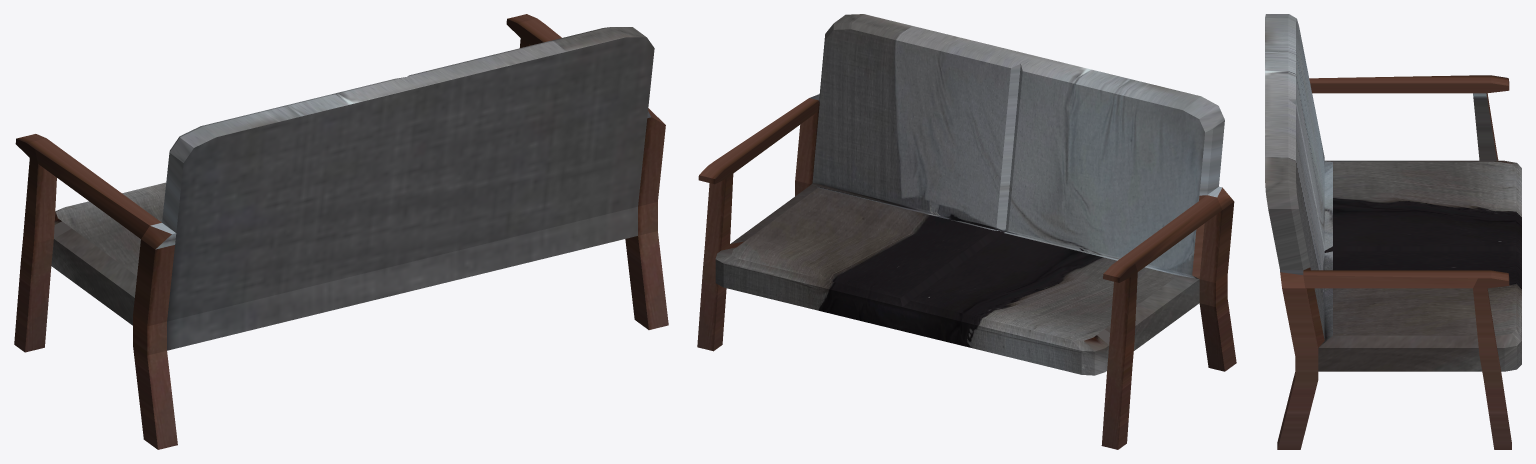
The model's file is Canap.fbx.
3 views of the same model, side by side, from view 1: azimuth 30°, elevation 25°; view 2: azimuth 150°, elevation 25°; view 3: azimuth 270°, elevation 25° (orthographic). The views are drawn at different scales.
Parts seen in each view (by area): view 1: Canap; view 2: Canap; view 3: Canap.
Boxes of the visible parts, x1,y1,x2,y2 form: Canap: (14, 14, 668, 449); Canap: (697, 14, 1236, 449); Canap: (1265, 14, 1521, 449).
Size of the model in its own units: 2 by 1.07 by 1.15.
Materials: 1 (1 with a texture image).
